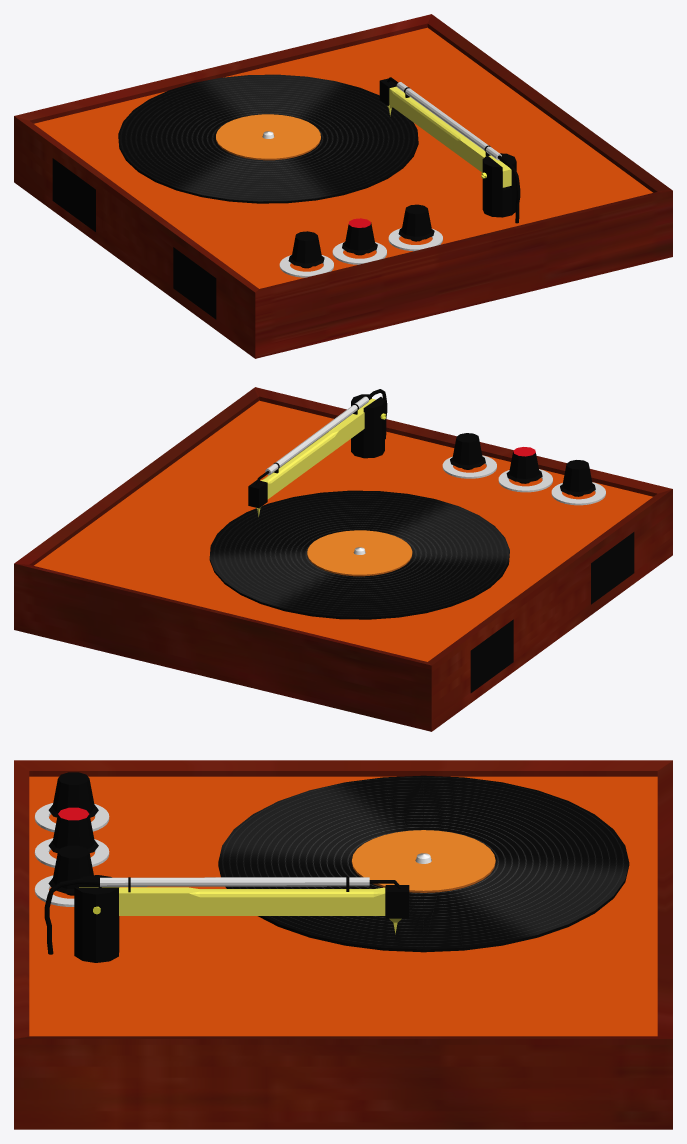
File: vinyl recorder Machine.fbx
3 renders of one model, top to bottom at view 1: azimuth 30°, elevation 25°; view 2: azimuth 150°, elevation 25°; view 3: azimuth 270°, elevation 25°, orthographic. The views are drawn at different scales.
Parts seen in each view (by area): view 1: Cube, Circle, Cube.001, Cylinder, Cylinder.001, Cylinder.002, Cylinder.003, Cylinder.004; view 2: Cube, Circle, Cube.001, Cylinder, Cylinder.001, Cylinder.002, Cylinder.003, Cylinder.004; view 3: Cube, Circle, Cube.001, Cylinder, Cylinder.001, Cylinder.003, Cylinder.002, Cylinder.004.
Part boxes in pixels (<box>): Cube: <box>14,14,672,358</box>; Circle: <box>118,74,418,203</box>; Cube.001: <box>379,78,511,187</box>; Cylinder: <box>481,153,516,217</box>; Cylinder.001: <box>387,77,520,223</box>; Cylinder.002: <box>288,231,324,268</box>; Cylinder.003: <box>342,218,377,255</box>; Cylinder.004: <box>398,204,434,241</box>; Cube: <box>14,387,672,731</box>; Circle: <box>209,490,509,619</box>; Cube.001: <box>248,398,375,516</box>; Cylinder: <box>351,394,386,458</box>; Cylinder.001: <box>255,389,387,485</box>; Cylinder.002: <box>560,460,595,496</box>; Cylinder.003: <box>506,447,542,483</box>; Cylinder.004: <box>450,433,485,469</box>; Cube: <box>14,760,672,1129</box>; Circle: <box>218,775,629,952</box>; Cube.001: <box>79,885,409,934</box>; Cylinder: <box>74,875,119,962</box>; Cylinder.001: <box>44,877,402,954</box>; Cylinder.003: <box>48,807,98,853</box>; Cylinder.002: <box>48,772,98,817</box>; Cylinder.004: <box>48,845,93,895</box>.
Size of the model in its own units: 2821 by 742 by 2821.
